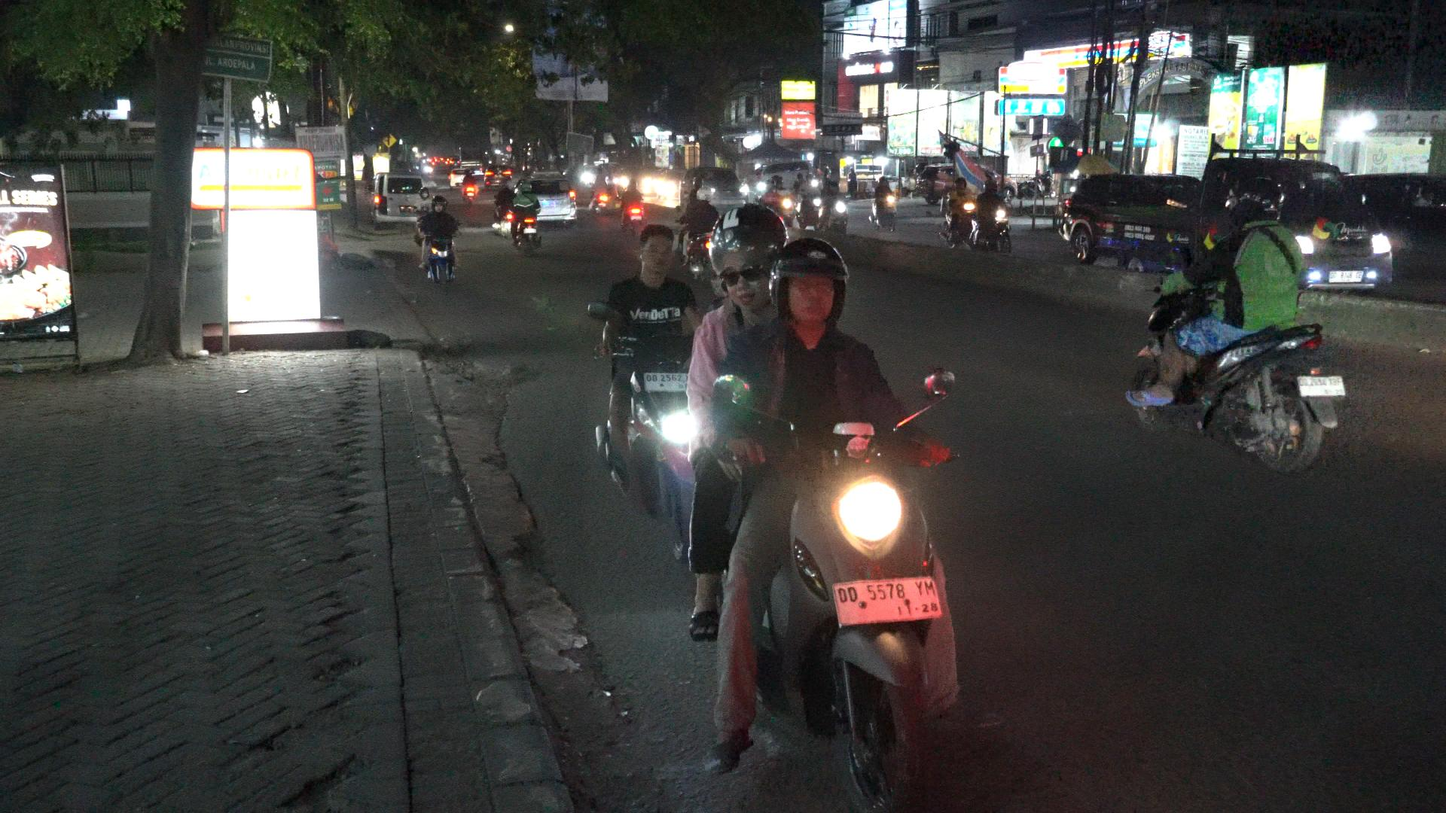number-plate: (828, 574, 944, 630)
